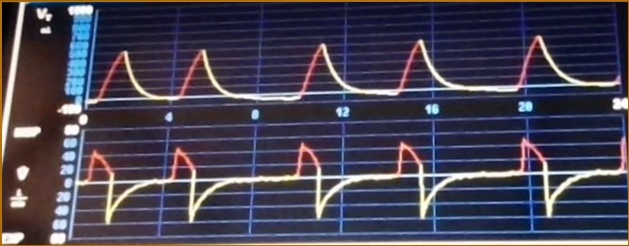Normal Flow: (81, 130, 629, 240)
Normal Volume: (87, 25, 618, 107)
